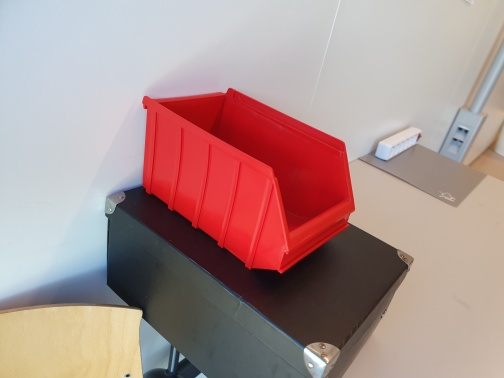tray_left: (142, 92, 288, 274)
